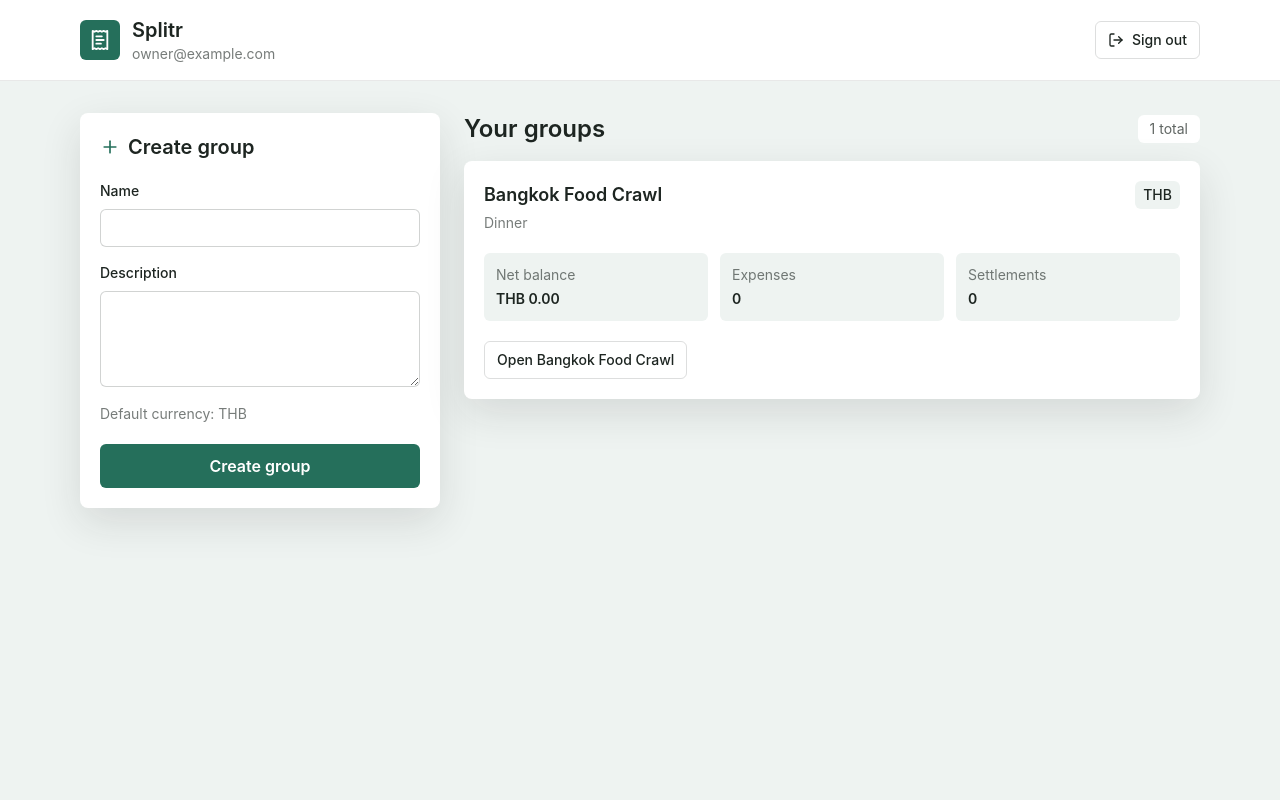
Test: App › adds a Participant by email from a Group detail view
Click the button "Open Bangkok Food Crawl". click: (586, 360)
box: [484, 341, 687, 379]
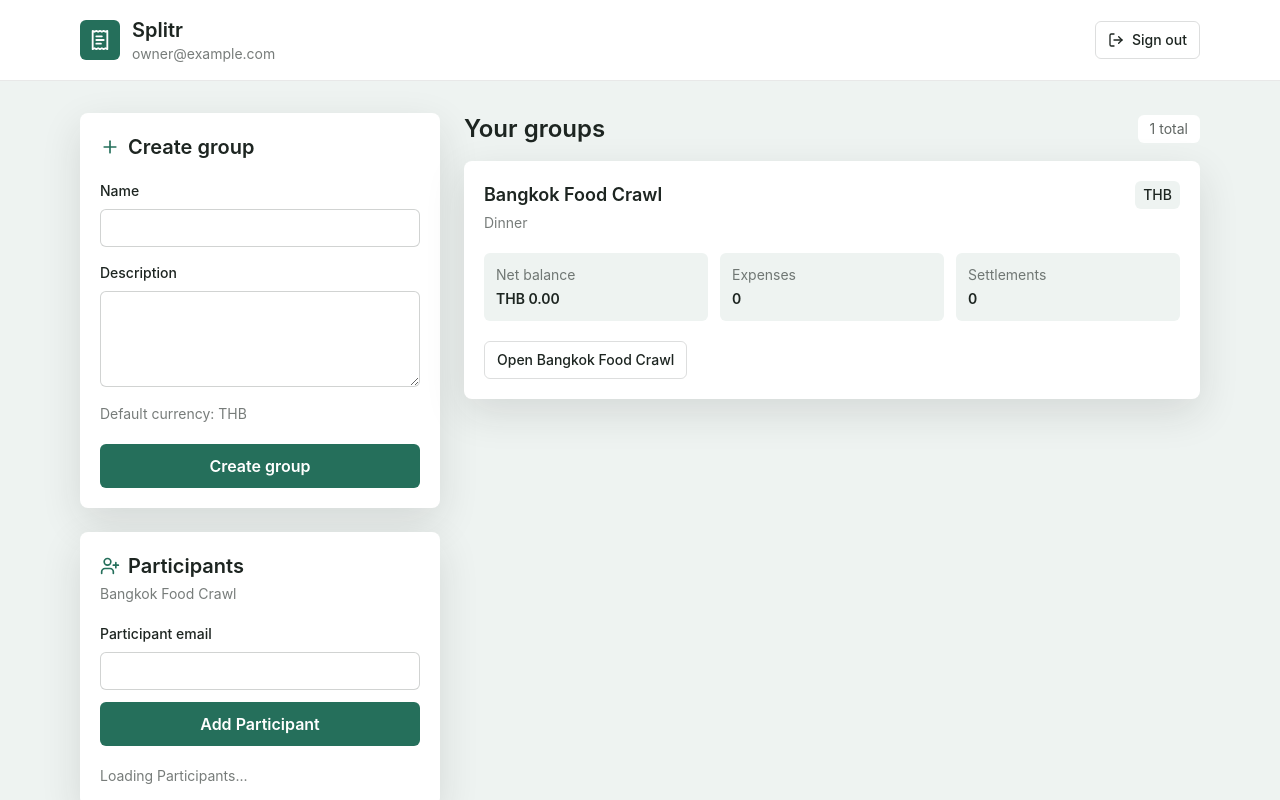
expect the text "owner@example.com" is shown: met, box [132, 44, 275, 64]
Type "friend@example.com" into the field labelled "Participant email". click: (260, 671)
box: [100, 652, 420, 690]
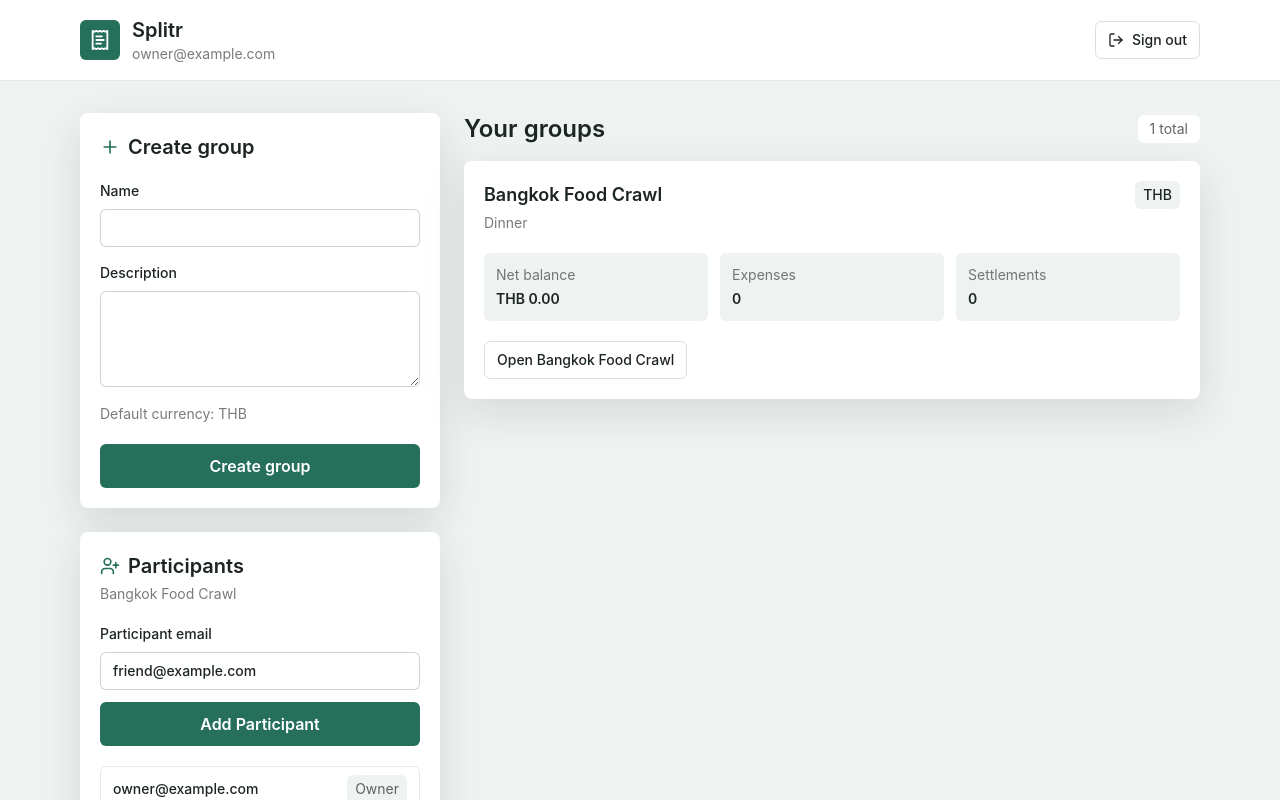
Click the button "Add Participant". click: (260, 724)
box: [100, 702, 420, 746]
(page scrolled)
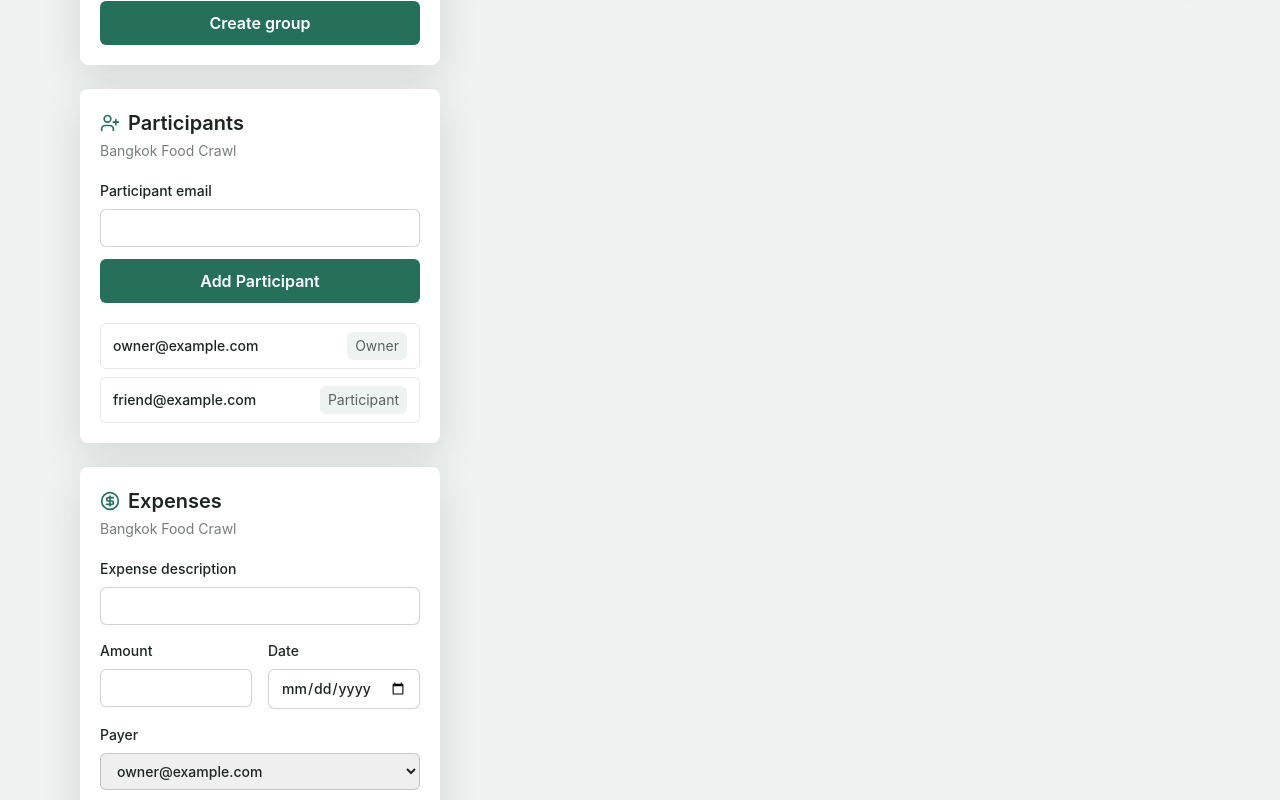
expect the text "friend@example.com" is shown: met, box [113, 390, 256, 410]
